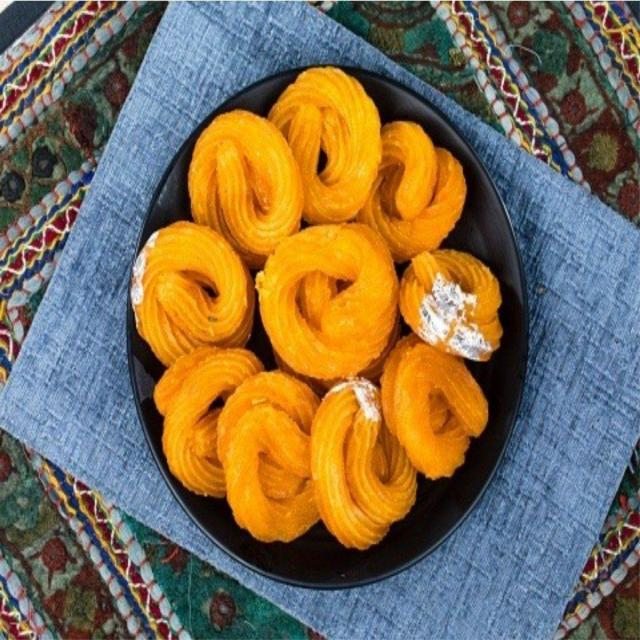jalebi: (124, 69, 508, 552)
